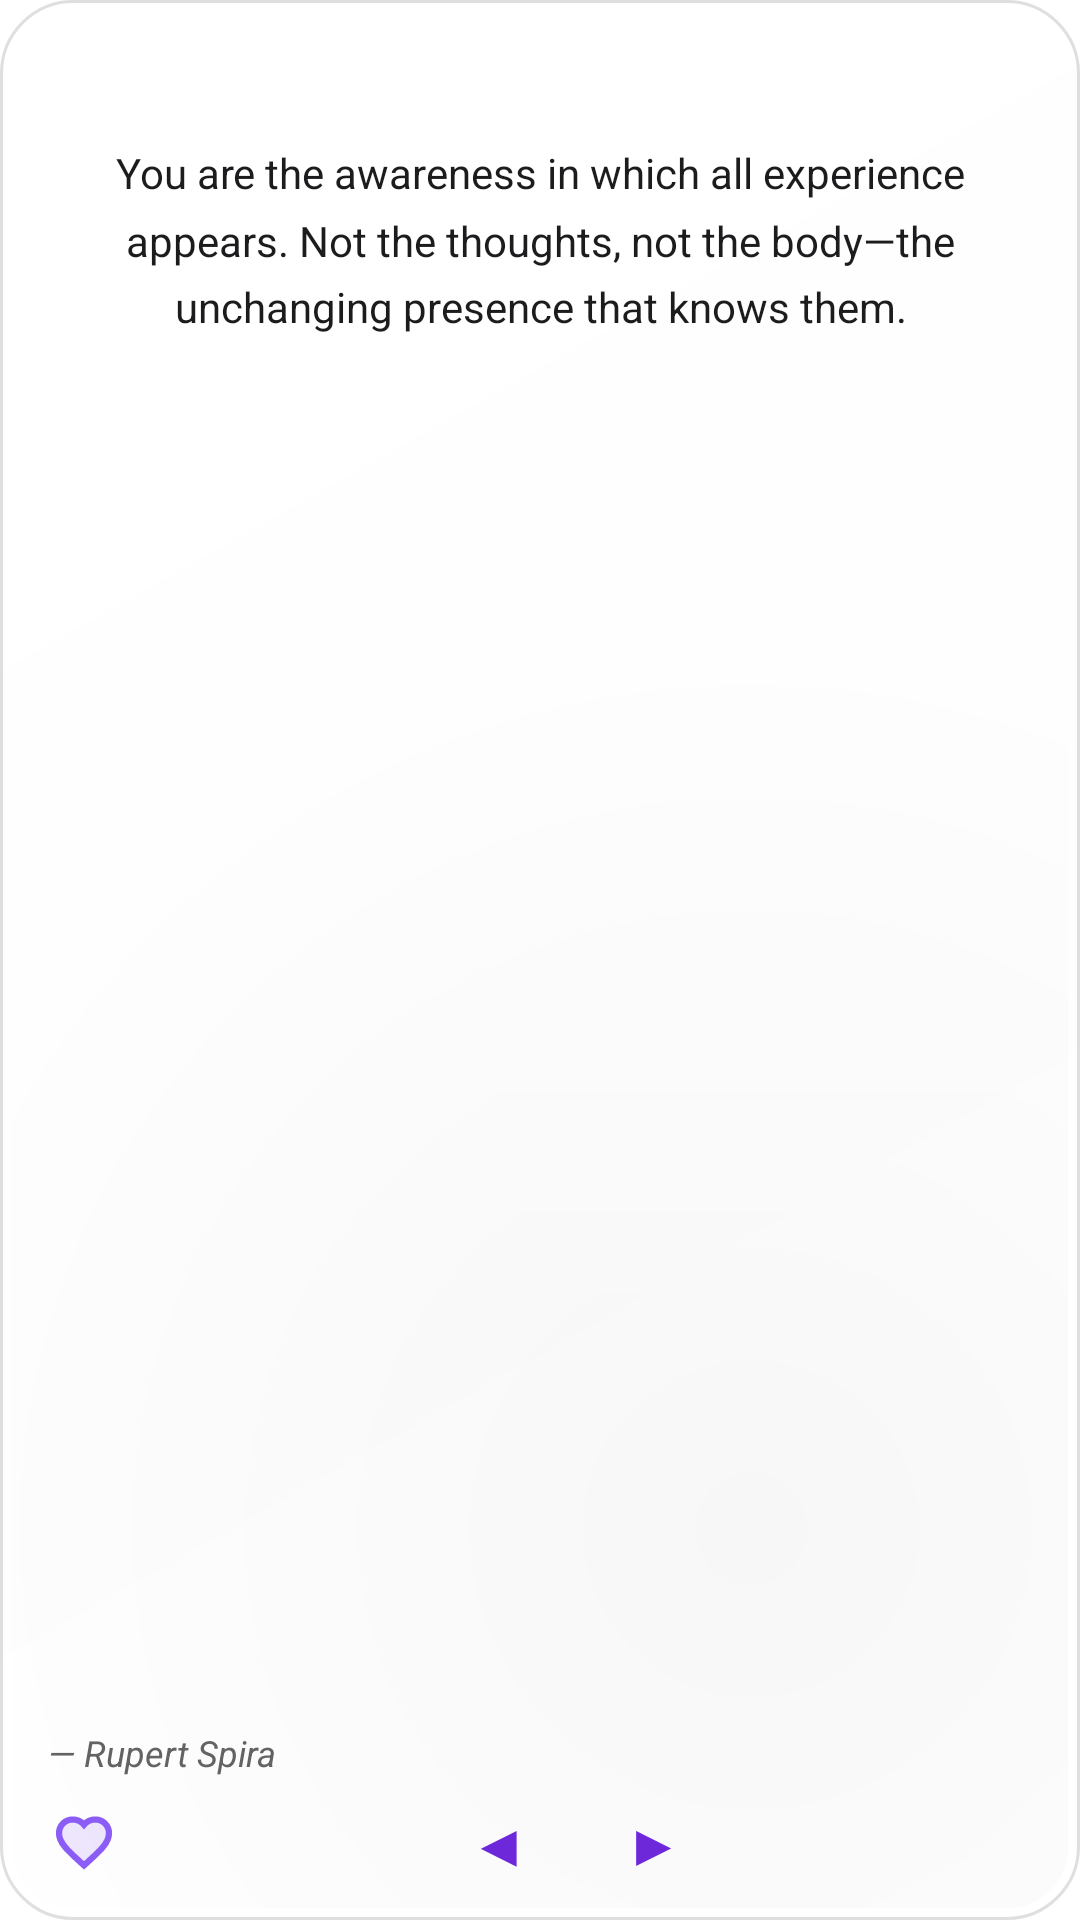

Icon click points for this 1080px×1920px phone screenshot, format (x=x, y=y):
heart: (x=84, y=1843)
